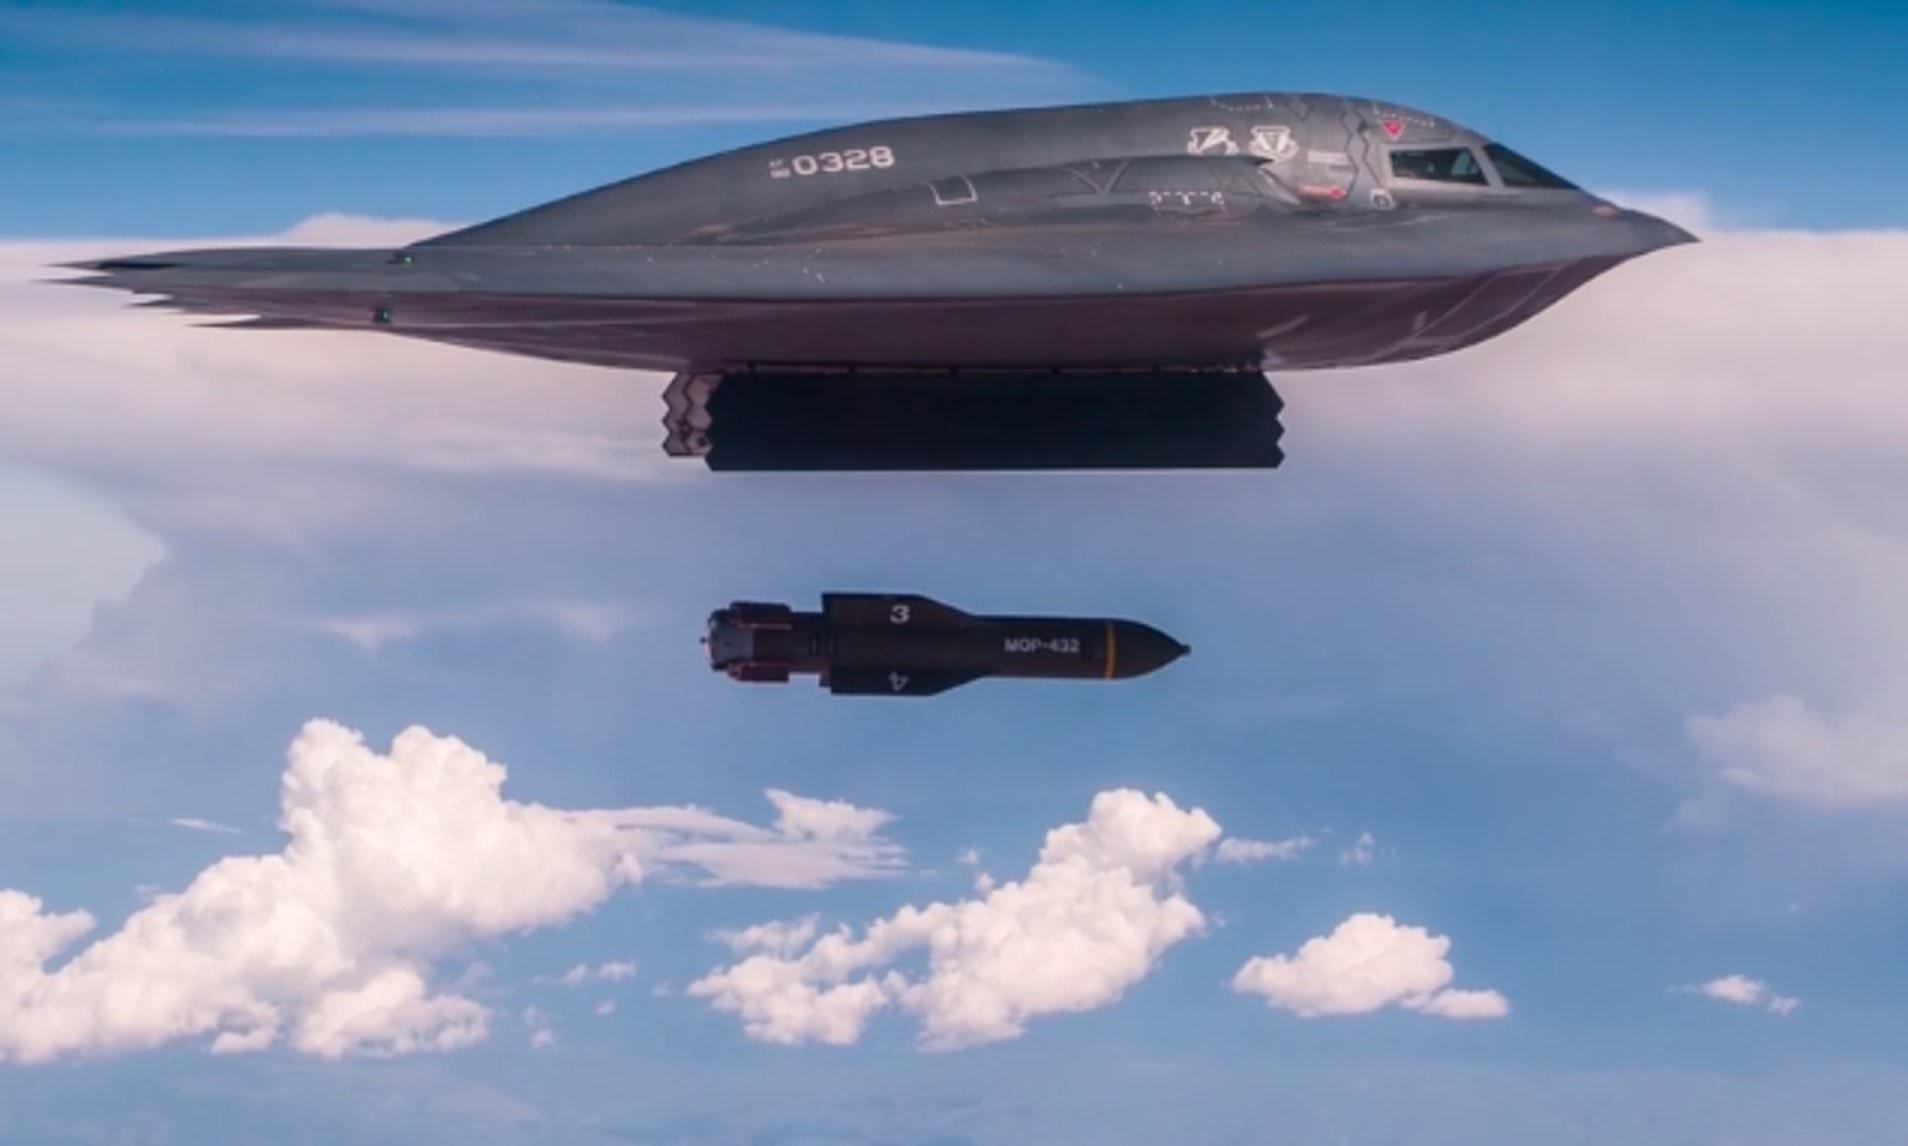B2: (26, 93, 1704, 471)
